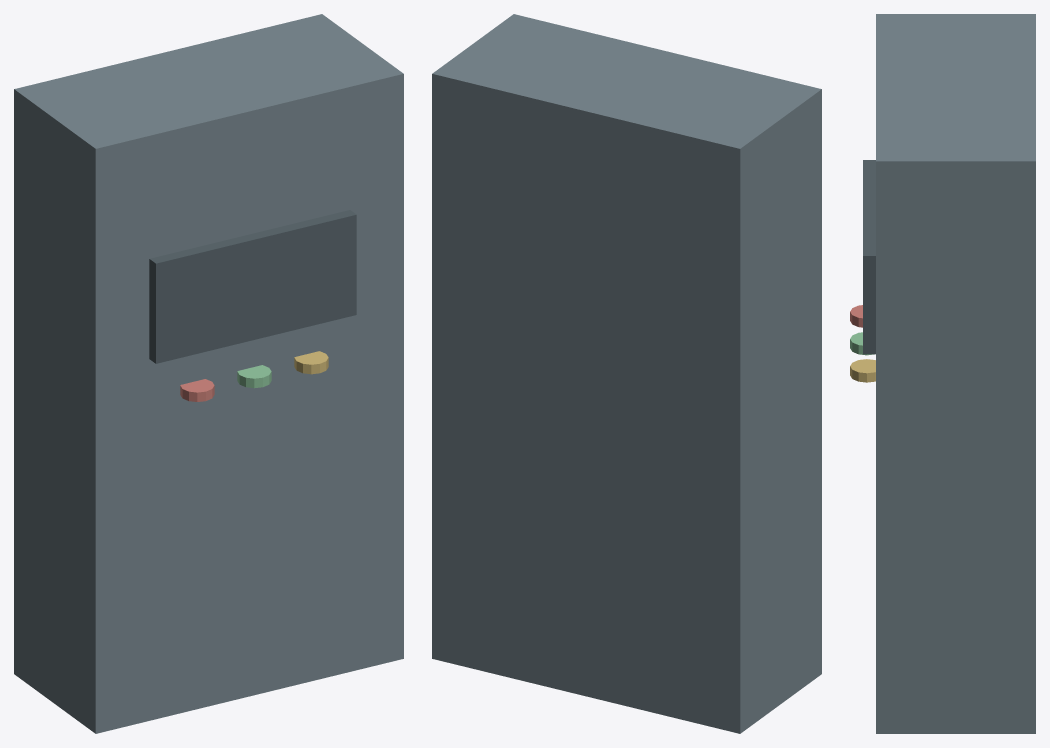
File: panel_lod1.glb
3 views of the same model, side by side, from view 1: azimuth 30°, elevation 25°; view 2: azimuth 150°, elevation 25°; view 3: azimuth 270°, elevation 25° (orthographic). The views are drawn at different scales.
Visible parts, largest first — view 1: cabinet, screen, lamp2, lamp0, lamp1; view 2: cabinet; view 3: cabinet, screen, lamp2.
Boxes of the visible parts, x1,y1,x2,y2 form: cabinet: (14,14,403,733); screen: (149,210,356,363); lamp2: (294,351,328,374); lamp0: (180,379,214,401); lamp1: (237,365,271,388); cabinet: (432,14,821,733); cabinet: (876,14,1035,733); screen: (863,160,875,354); lamp2: (850,359,875,382).
Size of the model in its own units: 1.35 by 2.45 by 0.72.
